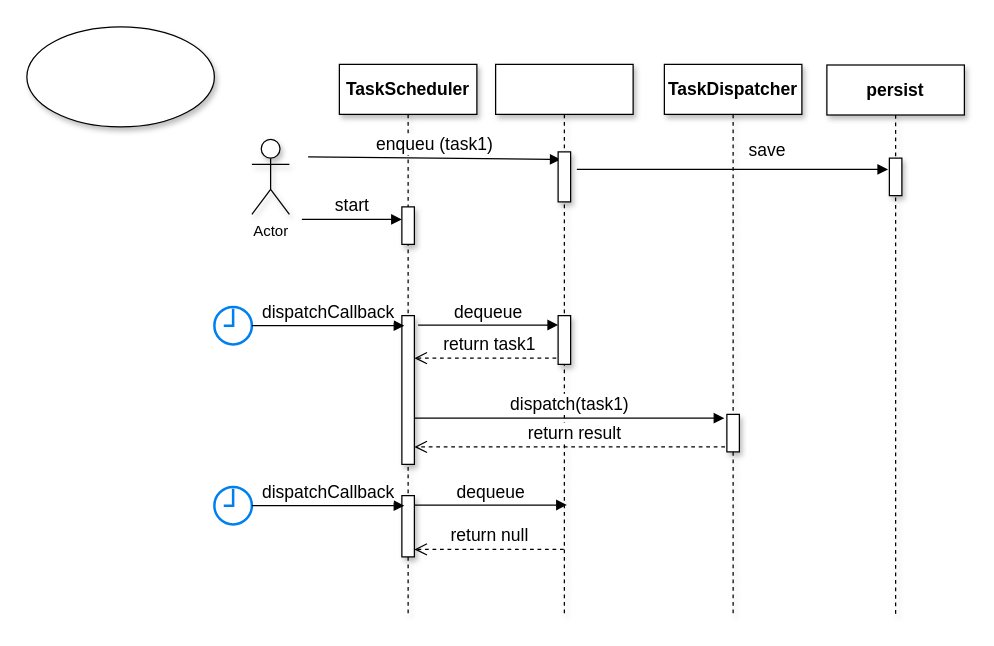
The diagram is 994 pixels wide and 646 high, and some of its shapes have lost their labels. Each missing label, with the centre of its shape:
"TaskQueue" belongs at point (565, 340).
"Use Case : queue is not empty" belongs at point (121, 78).
